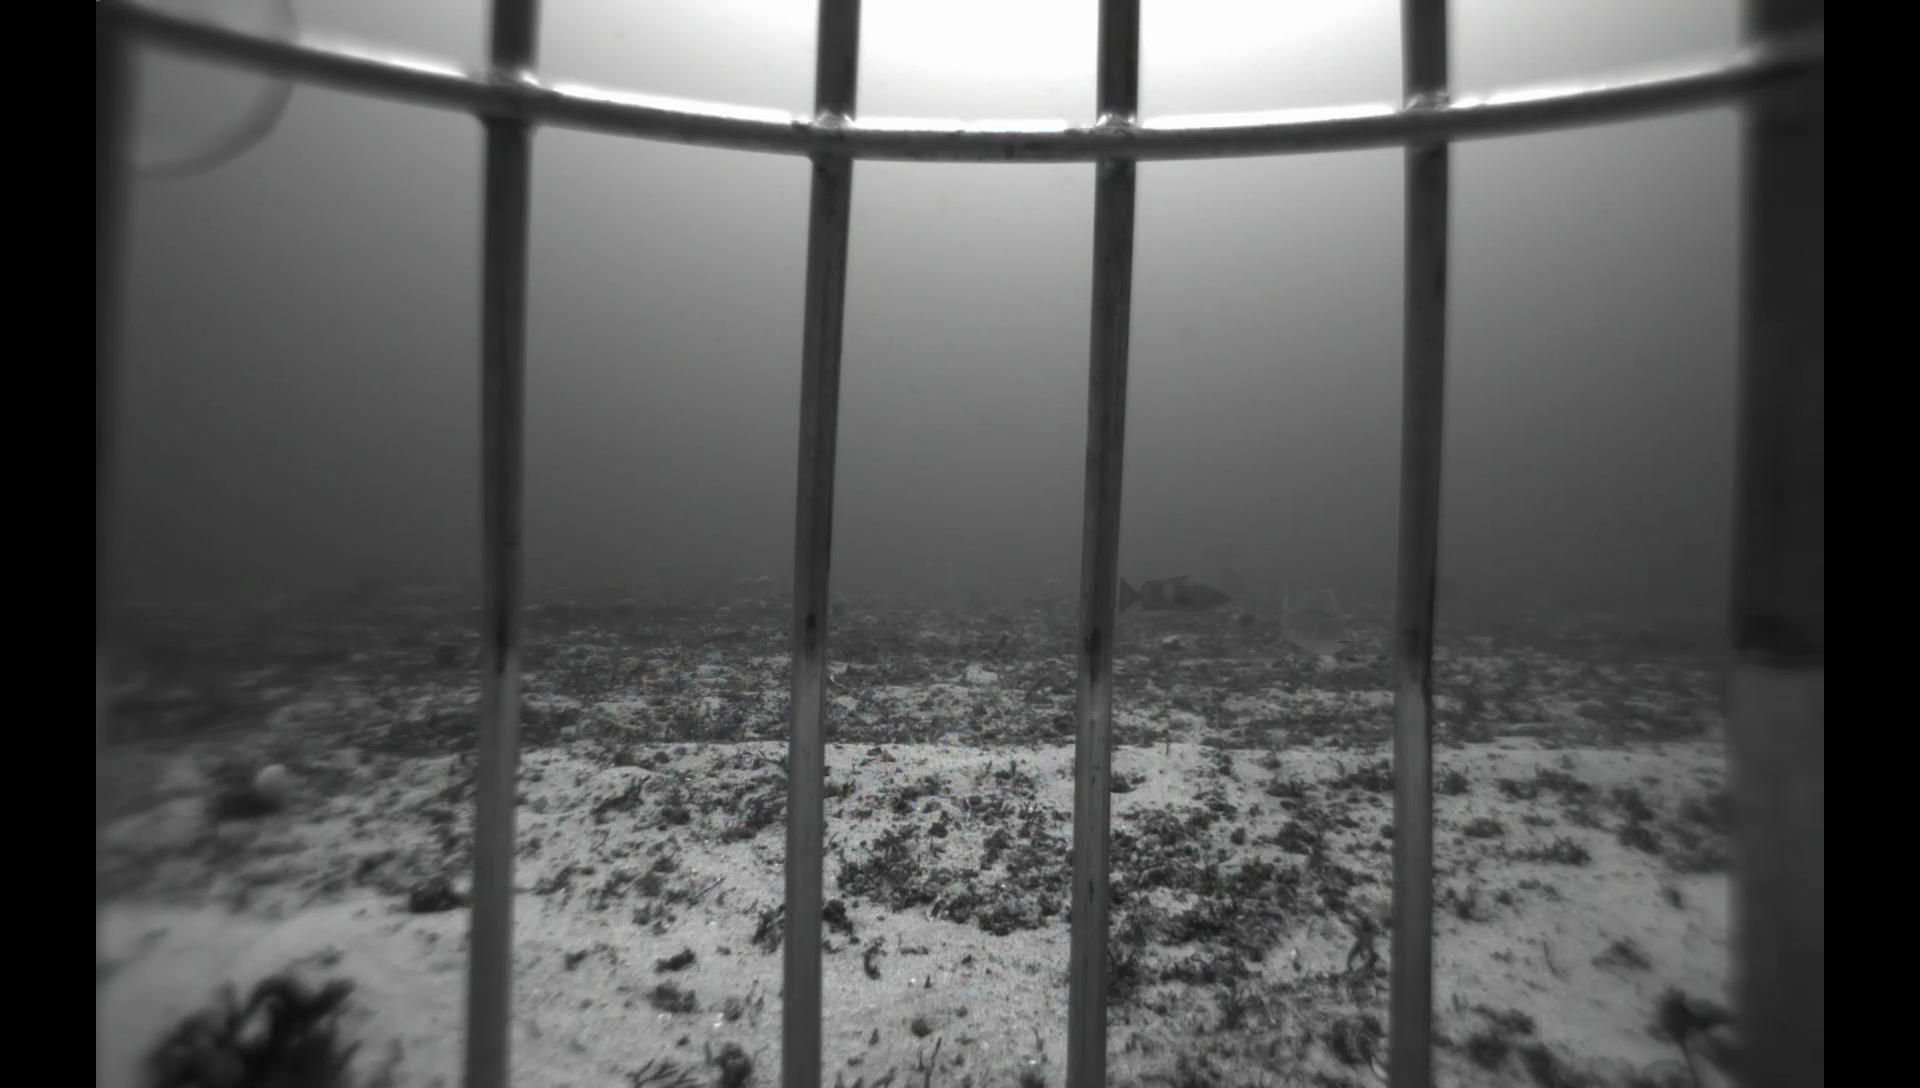CALAMUSPRORIDENS-170210605: (1262, 583, 1358, 659)
EPINEPHELUSMORIO-170021211: (1112, 568, 1236, 620)
PRISTIGENYSALTA-170050401: (593, 589, 650, 622), (825, 596, 852, 622)
